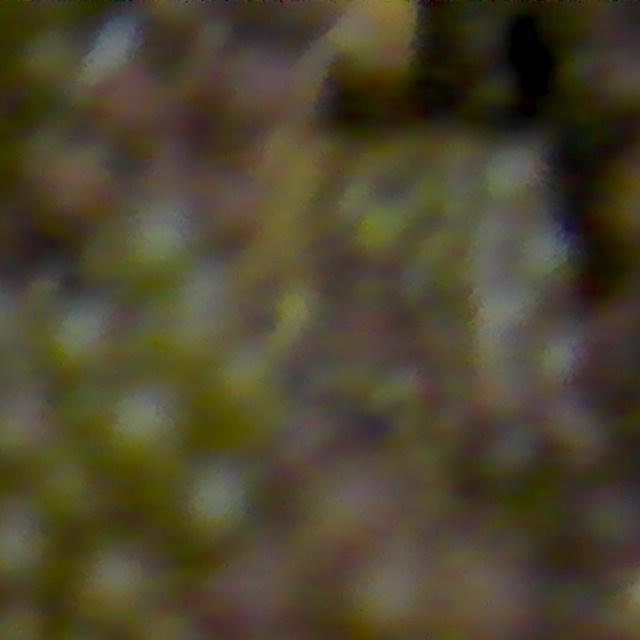SeaGrape: (103, 375, 195, 468), (211, 554, 302, 640), (73, 538, 161, 623), (451, 557, 541, 640), (179, 457, 260, 543), (46, 297, 123, 377), (0, 499, 57, 588), (212, 343, 281, 415), (42, 457, 104, 523), (0, 387, 54, 460)
